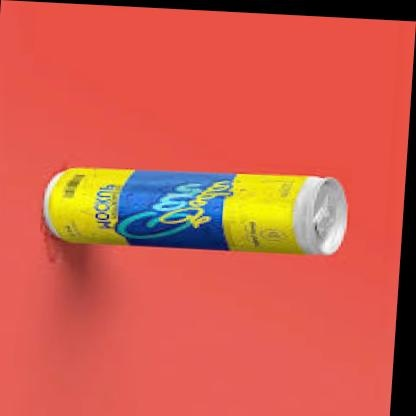trash: (44, 168, 346, 254)
